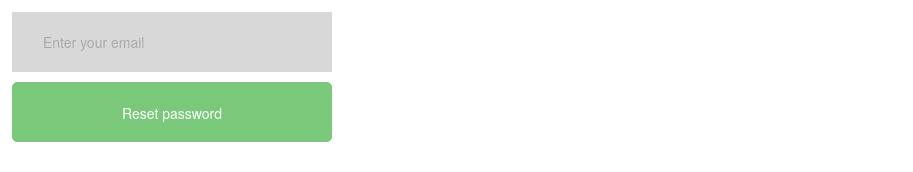
Test: ForgotPasswordForm › sends the request and shows the notice whether or not the email exists
Type "ada@example.com" into the field labelled "email" at (172, 42), box [12, 12, 332, 72]
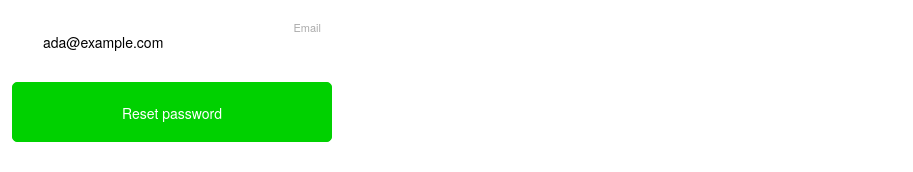
Expected: the button "Reset password" is enabled
Click the button "Reset password" at (172, 112), box [12, 82, 332, 142]
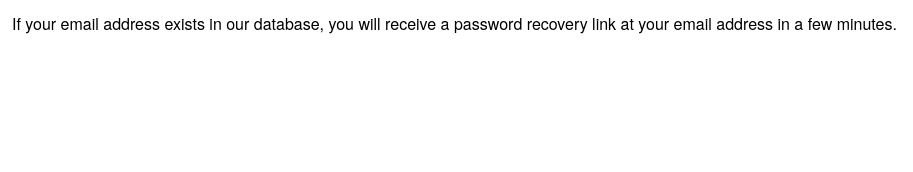
Expected: the text "you will receive a password recovery link" is shown, [12, 12, 897, 35]
